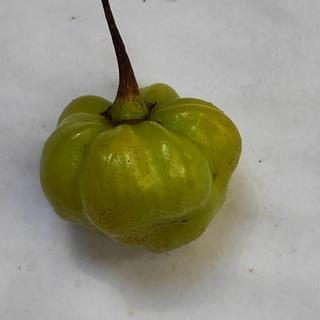Fly-bites: (96, 206, 108, 220), (210, 169, 219, 185), (180, 217, 189, 225)
